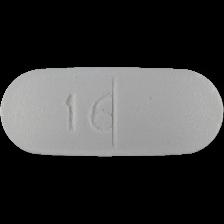63187-314: (0, 0, 224, 224)
